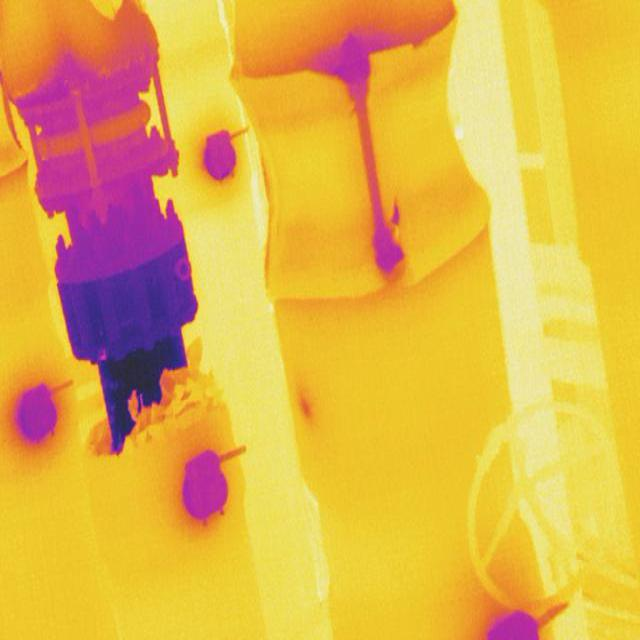leakage: (292, 386, 317, 420)
